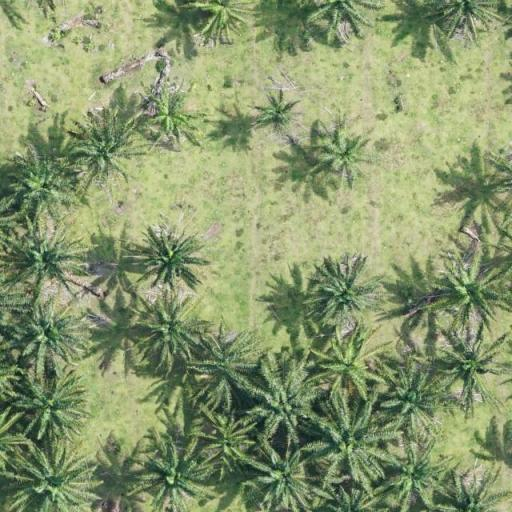Ganoderma: (144, 92, 196, 142), (320, 136, 364, 174), (258, 95, 294, 126)
